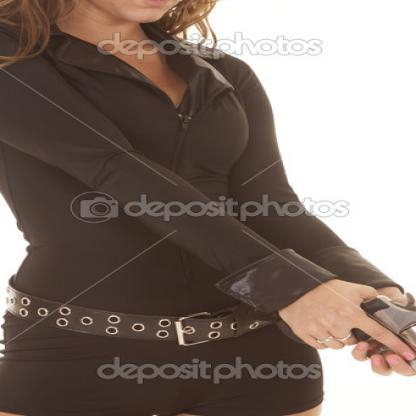gun: (324, 278, 415, 415)
